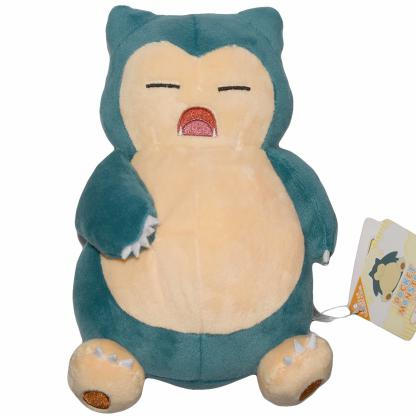Snorlax: (52, 1, 360, 416)
